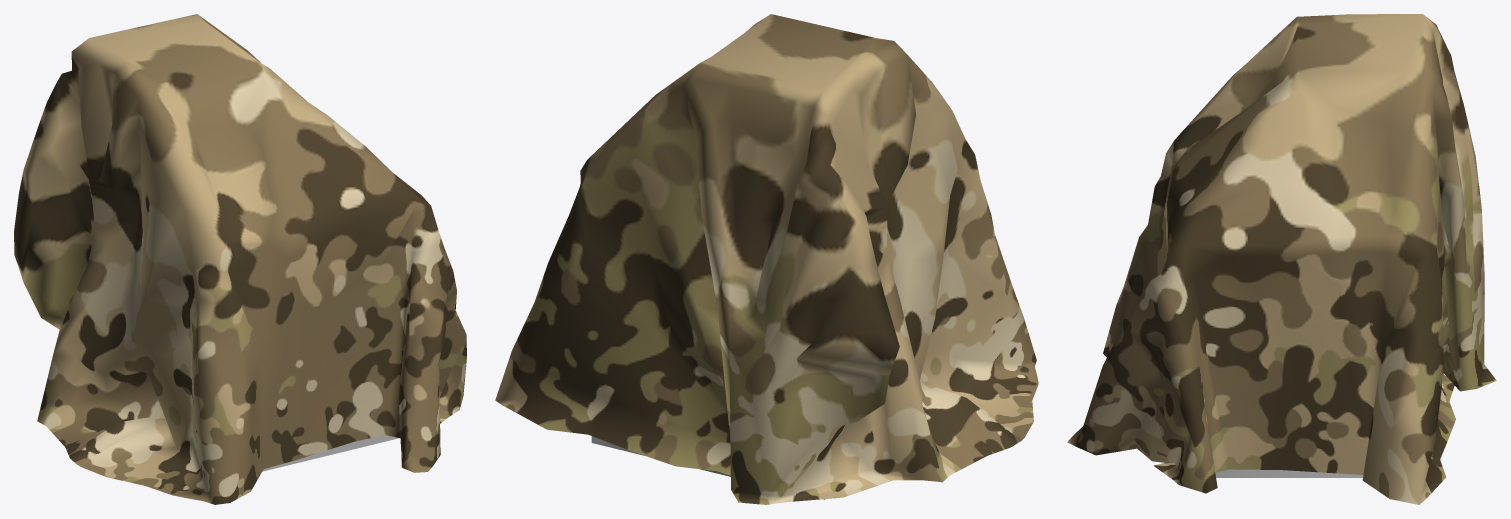
The picture shows the model from 3 angles, left to right: view 1: azimuth 30°, elevation 25°; view 2: azimuth 150°, elevation 25°; view 3: azimuth 270°, elevation 25°; orthographic projection. The views are drawn at different scales.
Parts seen in each view (by area): view 1: box_002; view 2: box_002; view 3: box_002.
Part boxes in pixels (box(x1,y1,x2,y2)): box_002: box(14, 14, 466, 504); box_002: box(495, 14, 1038, 504); box_002: box(1067, 14, 1496, 504).
Bounding box in the file's own units: 264 × 254 × 238.
